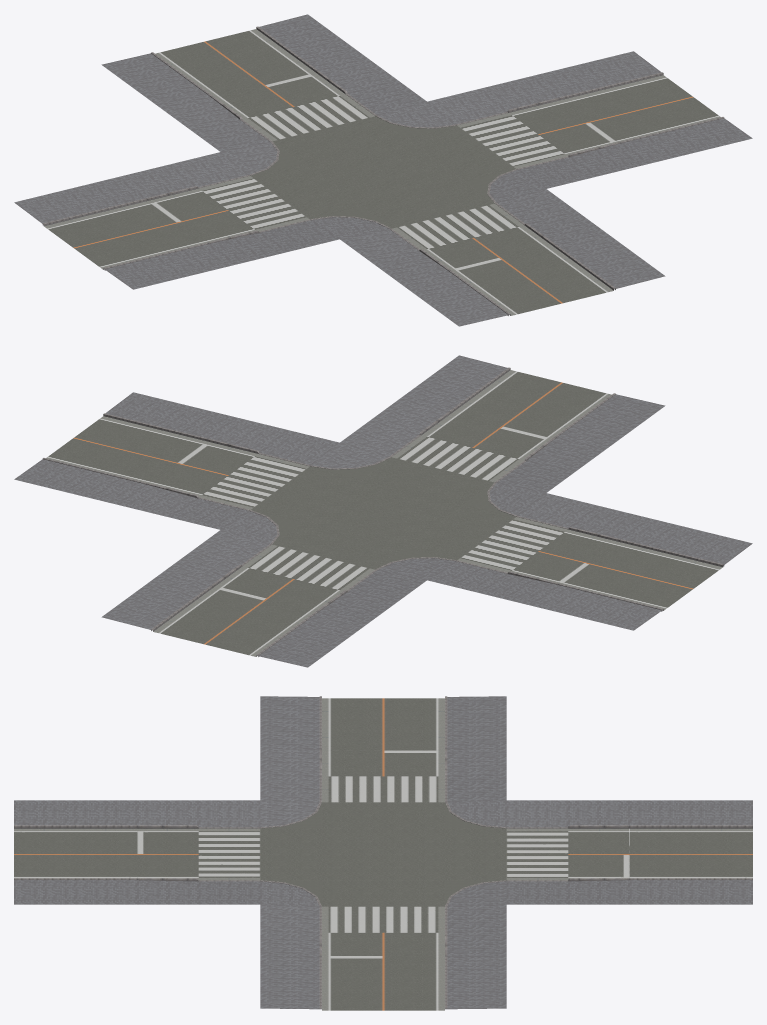
Rendered from Crossroads.fbx.
3 renders of one model, top to bottom at view 1: azimuth 30°, elevation 25°; view 2: azimuth 150°, elevation 25°; view 3: azimuth 270°, elevation 25°, orthographic. The views are drawn at different scales.
Visible parts, largest first — view 1: 090_asphalt_center, 500_sidewalk_w4m.001, 500_sidewalk_w4m.003, 500_sidewalk_w4m.002, 500_sidewalk_w4m, 001_roadway_8x16m_orange.003, 001_roadway_8x16m_orange.001, 001_roadway_8x16m_orange, 001_roadway_8x16m_orange.002, 100_curb.001, 100_curb.003, 100_curb.002 (+1 smaller); view 2: 090_asphalt_center, 500_sidewalk_w4m.002, 500_sidewalk_w4m, 500_sidewalk_w4m.001, 500_sidewalk_w4m.003, 001_roadway_8x16m_orange.003, 001_roadway_8x16m_orange.001, 001_roadway_8x16m_orange, 001_roadway_8x16m_orange.002, 100_curb.002, 100_curb, 100_curb.001 (+1 smaller); view 3: 090_asphalt_center, 500_sidewalk_w4m.003, 500_sidewalk_w4m, 500_sidewalk_w4m.001, 500_sidewalk_w4m.002, 001_roadway_8x16m_orange, 001_roadway_8x16m_orange.002, 001_roadway_8x16m_orange.003, 001_roadway_8x16m_orange.001, 100_curb.003, 100_curb, 100_curb.002 (+1 smaller).
Part boxes in pixels (bbox=[...]): 090_asphalt_center: bbox=[251, 116, 515, 228]; 500_sidewalk_w4m.001: bbox=[259, 14, 661, 127]; 500_sidewalk_w4m.003: bbox=[14, 53, 277, 224]; 500_sidewalk_w4m.002: bbox=[489, 118, 752, 289]; 500_sidewalk_w4m: bbox=[104, 217, 510, 326]; 001_roadway_8x16m_orange.003: bbox=[155, 29, 374, 141]; 001_roadway_8x16m_orange.001: bbox=[392, 203, 613, 315]; 001_roadway_8x16m_orange: bbox=[457, 75, 720, 168]; 001_roadway_8x16m_orange.002: bbox=[44, 176, 308, 269]; 100_curb.001: bbox=[256, 26, 663, 128]; 100_curb.003: bbox=[42, 52, 279, 225]; 100_curb.002: bbox=[487, 117, 724, 290]; 090_asphalt_center: bbox=[251, 457, 515, 569]; 500_sidewalk_w4m.002: bbox=[105, 355, 507, 468]; 500_sidewalk_w4m: bbox=[489, 394, 752, 565]; 500_sidewalk_w4m.001: bbox=[14, 459, 277, 630]; 500_sidewalk_w4m.003: bbox=[256, 558, 662, 667]; 001_roadway_8x16m_orange.003: bbox=[153, 544, 374, 656]; 001_roadway_8x16m_orange.001: bbox=[392, 370, 611, 482]; 001_roadway_8x16m_orange: bbox=[46, 416, 309, 509]; 001_roadway_8x16m_orange.002: bbox=[458, 517, 722, 610]; 100_curb.002: bbox=[103, 367, 510, 469]; 100_curb: bbox=[487, 393, 724, 566]; 100_curb.001: bbox=[42, 458, 279, 631]; 090_asphalt_center: bbox=[260, 802, 506, 906]; 500_sidewalk_w4m.003: bbox=[447, 696, 752, 827]; 500_sidewalk_w4m: bbox=[14, 696, 319, 827]; 500_sidewalk_w4m.001: bbox=[445, 880, 752, 1009]; 500_sidewalk_w4m.002: bbox=[14, 880, 321, 1009]; 001_roadway_8x16m_orange: bbox=[322, 906, 444, 1010]; 001_roadway_8x16m_orange.002: bbox=[322, 698, 444, 802]; 001_roadway_8x16m_orange.003: bbox=[506, 828, 752, 880]; 001_roadway_8x16m_orange.001: bbox=[14, 828, 260, 880]; 100_curb.003: bbox=[445, 696, 752, 828]; 100_curb: bbox=[14, 696, 321, 828]; 100_curb.002: bbox=[14, 878, 321, 1008].
Size of the model in its own units: 48 by 0.15 by 48.
